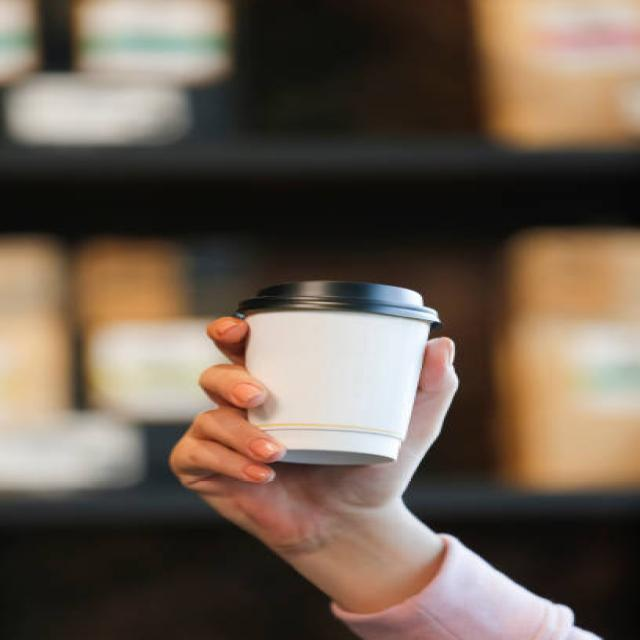cup: (231, 281, 440, 471)
